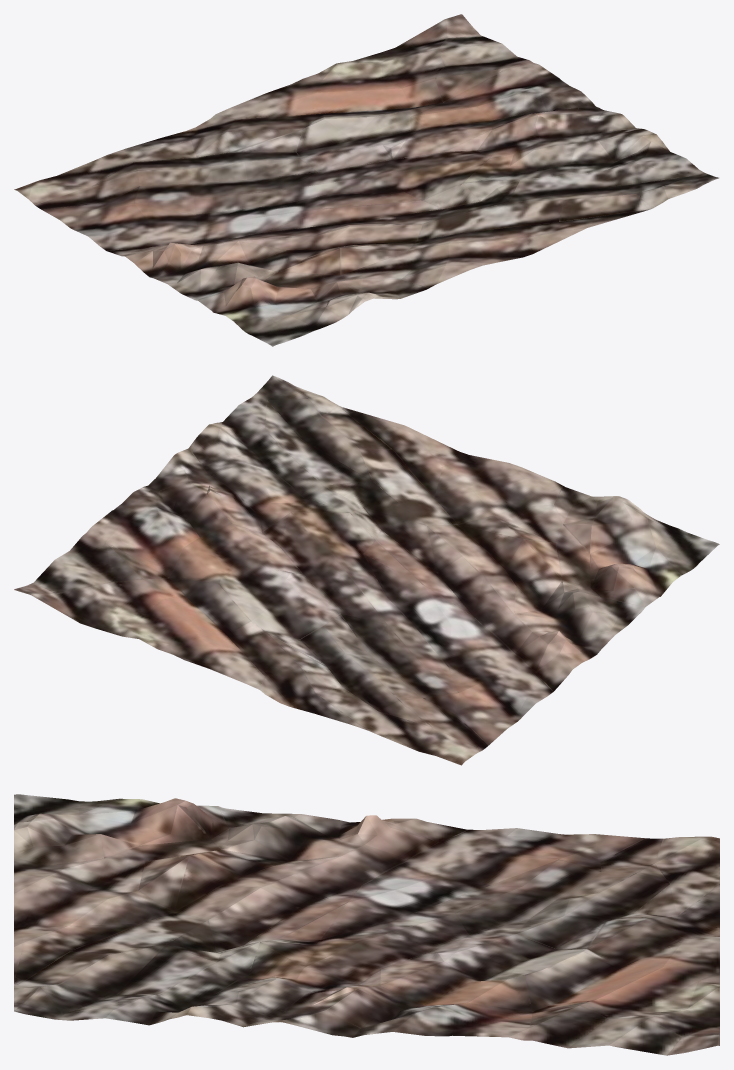
3 views of the same model, one above another, from view 1: azimuth 30°, elevation 25°; view 2: azimuth 150°, elevation 25°; view 3: azimuth 270°, elevation 25° (orthographic). The views are drawn at different scales.
Size of the model in its own units: 1.67 by 0.329 by 1.67.
3 materials, 3 textured.
